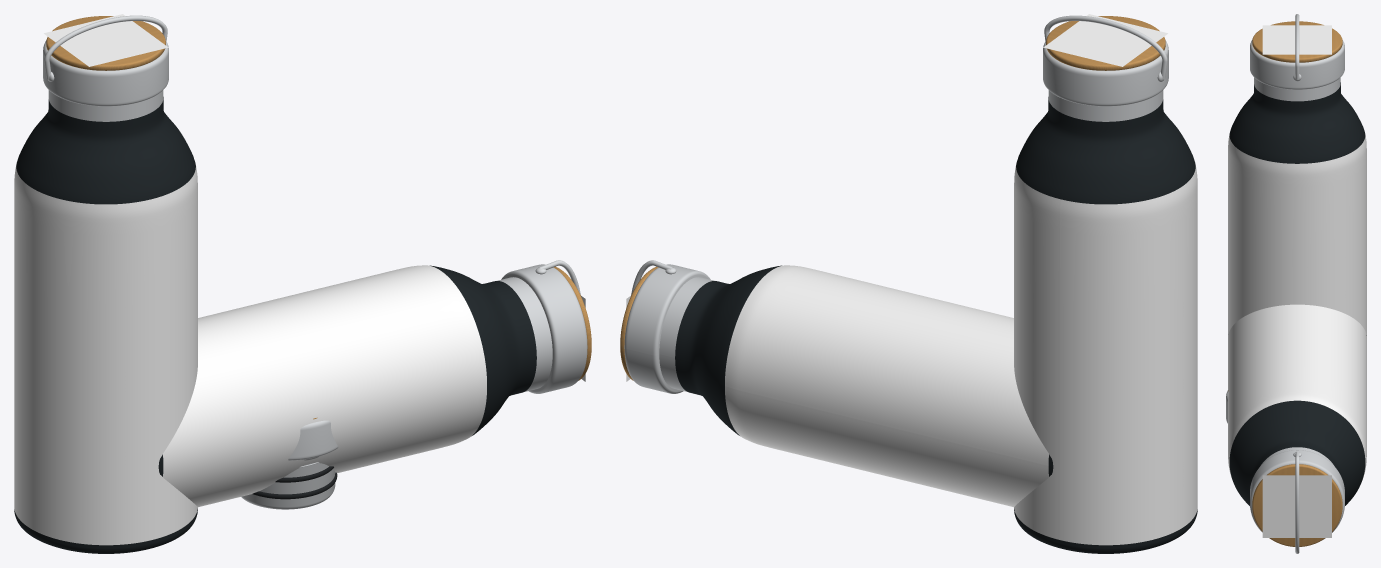
The model's file is bottle.glb.
3 views of the same model, side by side, from view 1: azimuth 30°, elevation 25°; view 2: azimuth 150°, elevation 25°; view 3: azimuth 270°, elevation 25° (orthographic). The views are drawn at different scales.
Visible parts, largest first — view 1: BottleBodyDecoration, BottleBodyDecoration.002, VacuumBottleBody, VacuumBottleBody.002, LidSteelCollar.002, LidSteelCollar, BambooTopDecoration, LidThreadPlug.001, SteelNeckAndInnerWall.002, SteelNeckAndInnerWall, LidBambooTop, LidSteelCollar.001 (+1 smaller); view 2: BottleBodyDecoration, BottleBodyDecoration.002, VacuumBottleBody, VacuumBottleBody.002, LidSteelCollar.002, LidSteelCollar, BambooTopDecoration, SteelNeckAndInnerWall.002, SteelNeckAndInnerWall, LidBambooTop, SteelCarryHandle; view 3: BottleBodyDecoration, BottleBodyDecoration.002, VacuumBottleBody, VacuumBottleBody.002, BambooTopDecoration.002, LidSteelCollar, BambooTopDecoration, LidBambooTop.002, LidSteelCollar.002, LidBambooTop, SteelNeckAndInnerWall, SteelCarryHandle.002 (+2 smaller).
Boxes of the visible parts, box(x1,y1,x2,y2) form: BottleBodyDecoration: box(14, 163, 197, 545); BottleBodyDecoration.002: box(163, 265, 486, 507); VacuumBottleBody: box(14, 97, 197, 553); VacuumBottleBody.002: box(158, 265, 536, 476); LidSteelCollar.002: box(501, 264, 587, 393); LidSteelCollar: box(43, 40, 168, 106); BambooTopDecoration: box(44, 14, 168, 66); LidThreadPlug.001: box(241, 456, 335, 509); SteelNeckAndInnerWall.002: box(497, 277, 552, 391); SteelNeckAndInnerWall: box(48, 90, 163, 121); LidBambooTop: box(46, 16, 165, 70); LidSteelCollar.001: box(288, 420, 338, 460); BottleBodyDecoration: box(1014, 163, 1197, 545); BottleBodyDecoration.002: box(725, 265, 1048, 507); VacuumBottleBody: box(1014, 97, 1197, 553); VacuumBottleBody.002: box(675, 265, 1053, 476); LidSteelCollar.002: box(624, 264, 710, 393); LidSteelCollar: box(1043, 40, 1168, 106); BambooTopDecoration: box(1043, 14, 1167, 66); SteelNeckAndInnerWall.002: box(659, 277, 714, 391); SteelNeckAndInnerWall: box(1048, 90, 1163, 121); LidBambooTop: box(1046, 16, 1165, 70); SteelCarryHandle: box(1044, 15, 1167, 79); BottleBodyDecoration: box(1228, 133, 1366, 338); BottleBodyDecoration.002: box(1228, 304, 1366, 499); VacuumBottleBody: box(1229, 82, 1365, 163); VacuumBottleBody.002: box(1229, 335, 1366, 505); BambooTopDecoration.002: box(1262, 475, 1331, 537); LidSteelCollar: box(1250, 40, 1344, 89); BambooTopDecoration: box(1262, 25, 1331, 54); LidBambooTop.002: box(1252, 464, 1342, 546); LidSteelCollar.002: box(1250, 450, 1344, 539); LidBambooTop: box(1252, 21, 1342, 62); SteelNeckAndInnerWall: box(1254, 77, 1340, 101); SteelCarryHandle.002: box(1295, 451, 1299, 553).
Bounding box in the file's own units: 0.2447 × 0.2097 × 0.071.
7 materials, 1 textured.
